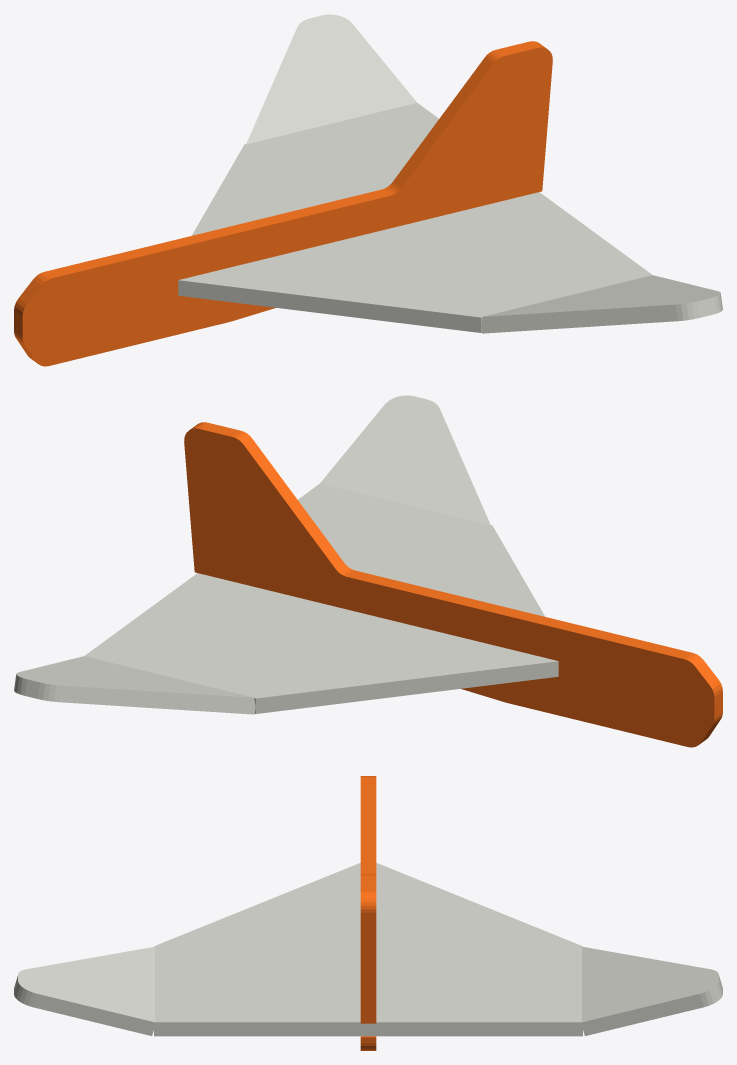
3 renders of one model, top to bottom at view 1: azimuth 30°, elevation 25°; view 2: azimuth 150°, elevation 25°; view 3: azimuth 270°, elevation 25°, orthographic. The views are drawn at different scales.
Parts seen in each view (by area): view 1: H, V; view 2: H, V; view 3: H, V.
Boxes of the visible parts, x1,y1,x2,y2 form: H: (178,14,722,333); V: (14,41,552,366); H: (14,395,558,714); V: (184,422,722,747); H: (14,863,722,1036); V: (360,776,376,1050).
Size of the model in its own units: 0.1785 by 0.064 by 0.2282.
